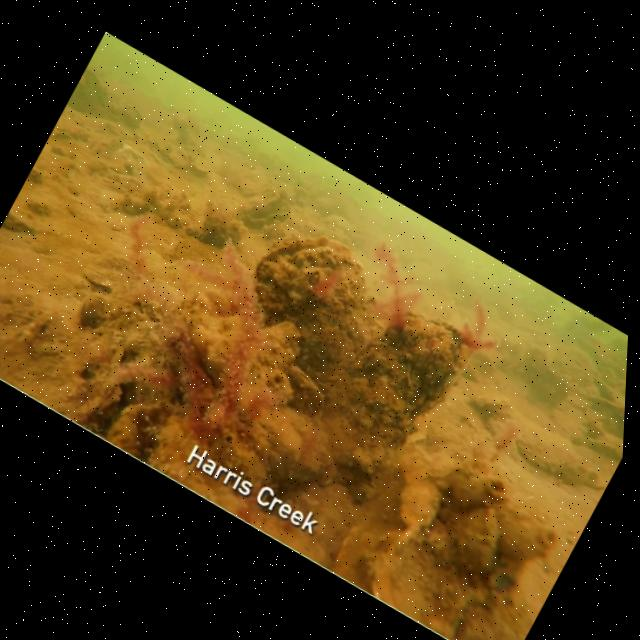Oyster-Indeterminate: (371, 534, 487, 640), (356, 314, 471, 418), (327, 371, 424, 448), (332, 519, 402, 595), (106, 404, 170, 463), (218, 431, 266, 498), (250, 412, 297, 480), (516, 424, 577, 475), (517, 349, 568, 408), (455, 508, 499, 572), (187, 203, 246, 248), (546, 300, 606, 340), (572, 420, 623, 463), (399, 481, 441, 531), (120, 314, 161, 365), (287, 365, 324, 417), (396, 447, 442, 484), (333, 443, 373, 479), (592, 398, 625, 439), (67, 81, 106, 114), (80, 293, 111, 330), (79, 69, 108, 101), (136, 300, 163, 323), (165, 150, 191, 169), (593, 379, 614, 402), (188, 161, 208, 177), (607, 338, 628, 352), (614, 350, 627, 368)
Oyster-Open: (255, 237, 365, 339), (237, 188, 290, 229), (114, 107, 142, 129)
